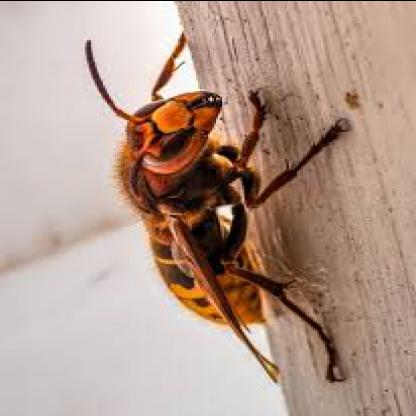european: (85, 29, 376, 382)
